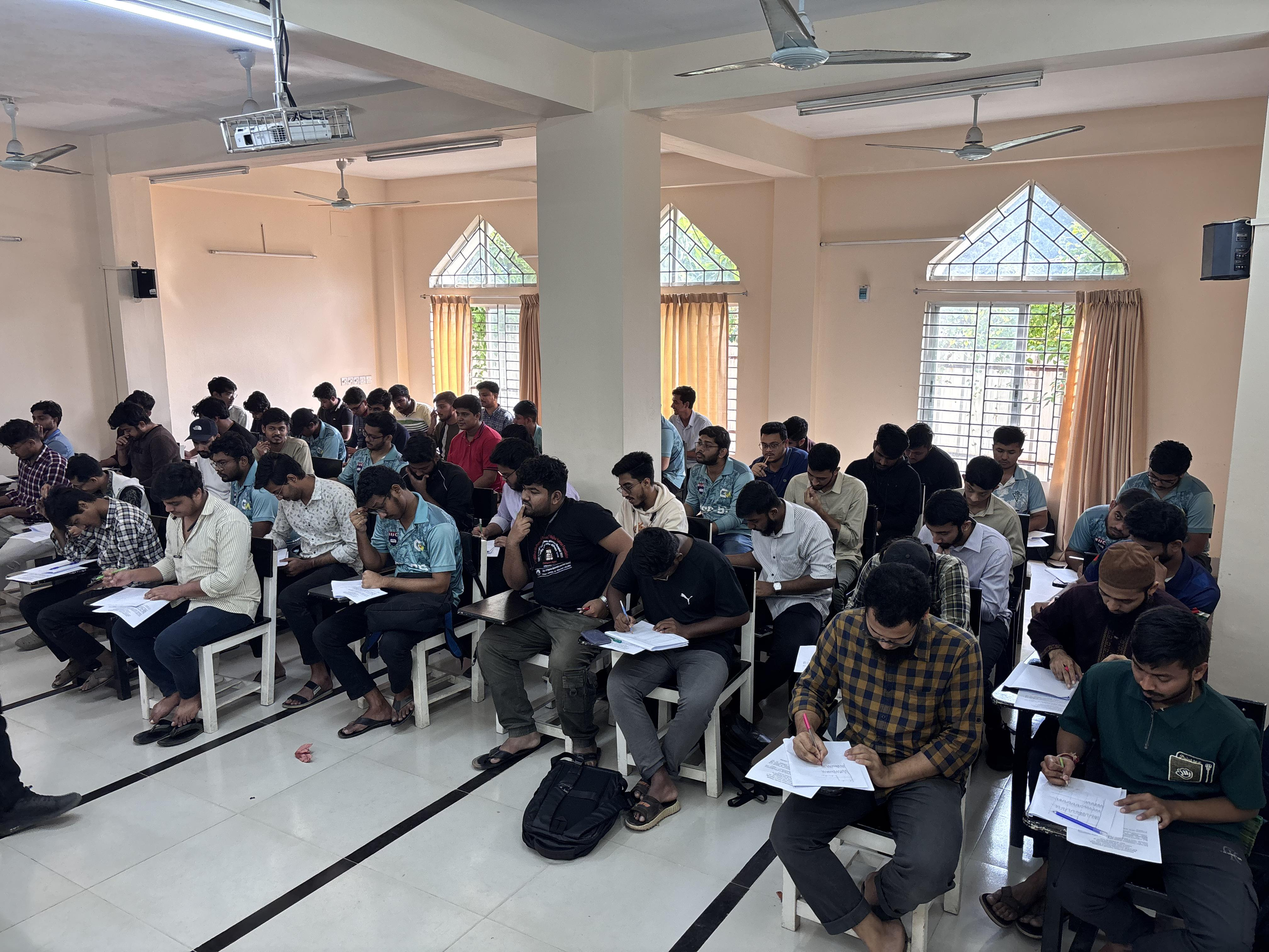copying: (490, 448, 614, 685), (319, 466, 460, 639), (178, 408, 221, 471), (205, 371, 257, 418), (509, 400, 542, 442)
hidden_communication: (389, 433, 465, 501)
no_cheating: (1013, 604, 1245, 913), (779, 562, 985, 839), (1025, 544, 1193, 715), (117, 463, 253, 670), (597, 520, 733, 673), (242, 452, 362, 593), (16, 479, 154, 596), (718, 473, 826, 602), (920, 477, 1010, 589), (601, 447, 687, 548), (1129, 444, 1227, 524), (1, 410, 70, 514), (786, 442, 871, 523), (97, 395, 176, 472), (63, 441, 143, 517), (853, 417, 917, 510), (950, 456, 1025, 534), (683, 428, 746, 520), (200, 428, 263, 506), (339, 409, 403, 485), (289, 397, 347, 472), (446, 396, 496, 479), (748, 418, 808, 486), (980, 418, 1035, 489), (28, 392, 87, 453), (386, 370, 443, 432), (900, 411, 950, 480), (665, 380, 714, 447), (254, 412, 300, 459), (423, 385, 461, 434), (305, 375, 346, 419), (469, 376, 507, 420), (335, 384, 372, 426)
